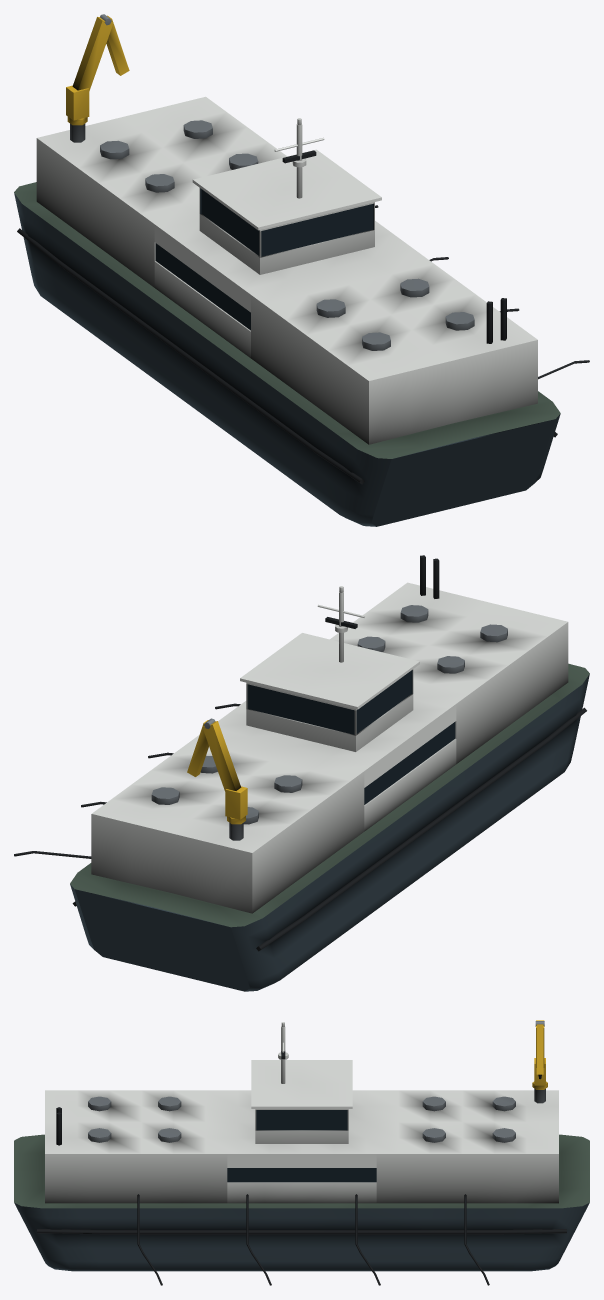
The model's file is feed_barge_LOD1.glb.
The picture shows the model from 3 angles, top to bottom: view 1: azimuth 30°, elevation 25°; view 2: azimuth 150°, elevation 25°; view 3: azimuth 270°, elevation 25°; orthographic projection. The views are drawn at different scales.
Parts seen in each view (by area): view 1: Superstructure, Hull, Deck, Windows, Machinery, Rubber, Crane; view 2: Superstructure, Hull, Deck, Windows, Machinery, Rubber, Crane; view 3: Superstructure, Hull, Deck, Windows, Rubber, Machinery, Crane.
Boxes of the visible parts, x1=… form: Superstructure: x1=36, y1=96, x2=537, y2=444; Hull: x1=14, y1=193, x2=560, y2=526; Deck: x1=14, y1=182, x2=560, y2=458; Windows: x1=155, y1=188, x2=373, y2=330; Machinery: x1=70, y1=14, x2=474, y2=350; Rubber: x1=17, y1=150, x2=589, y2=484; Crane: x1=66, y1=15, x2=129, y2=125; Superstructure: x1=91, y1=582, x2=568, y2=913; Hull: x1=70, y1=674, x2=589, y2=991; Deck: x1=70, y1=663, x2=589, y2=927; Windows: x1=247, y1=670, x2=455, y2=804; Machinery: x1=151, y1=605, x2=507, y2=840; Rubber: x1=14, y1=555, x2=586, y2=951; Crane: x1=187, y1=720, x2=247, y2=824; Superstructure: x1=45, y1=1022, x2=558, y2=1203; Hull: x1=14, y1=1203, x2=589, y2=1271; Deck: x1=14, y1=1134, x2=589, y2=1208; Windows: x1=227, y1=1110, x2=376, y2=1182; Rubber: x1=37, y1=1051, x2=566, y2=1285; Machinery: x1=88, y1=1021, x2=545, y2=1142; Crane: x1=532, y1=1020, x2=547, y2=1089.
Size of the model in its own units: 17.98 by 15.26 by 37.
